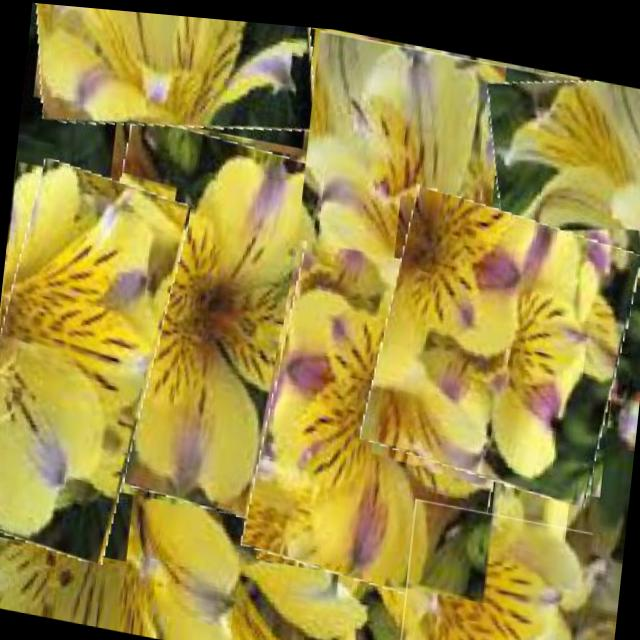Flower: (70, 109, 366, 529), (247, 224, 527, 603), (365, 177, 637, 497), (0, 155, 181, 571), (297, 22, 555, 278), (27, 2, 321, 157), (476, 50, 640, 276), (395, 489, 593, 640)
